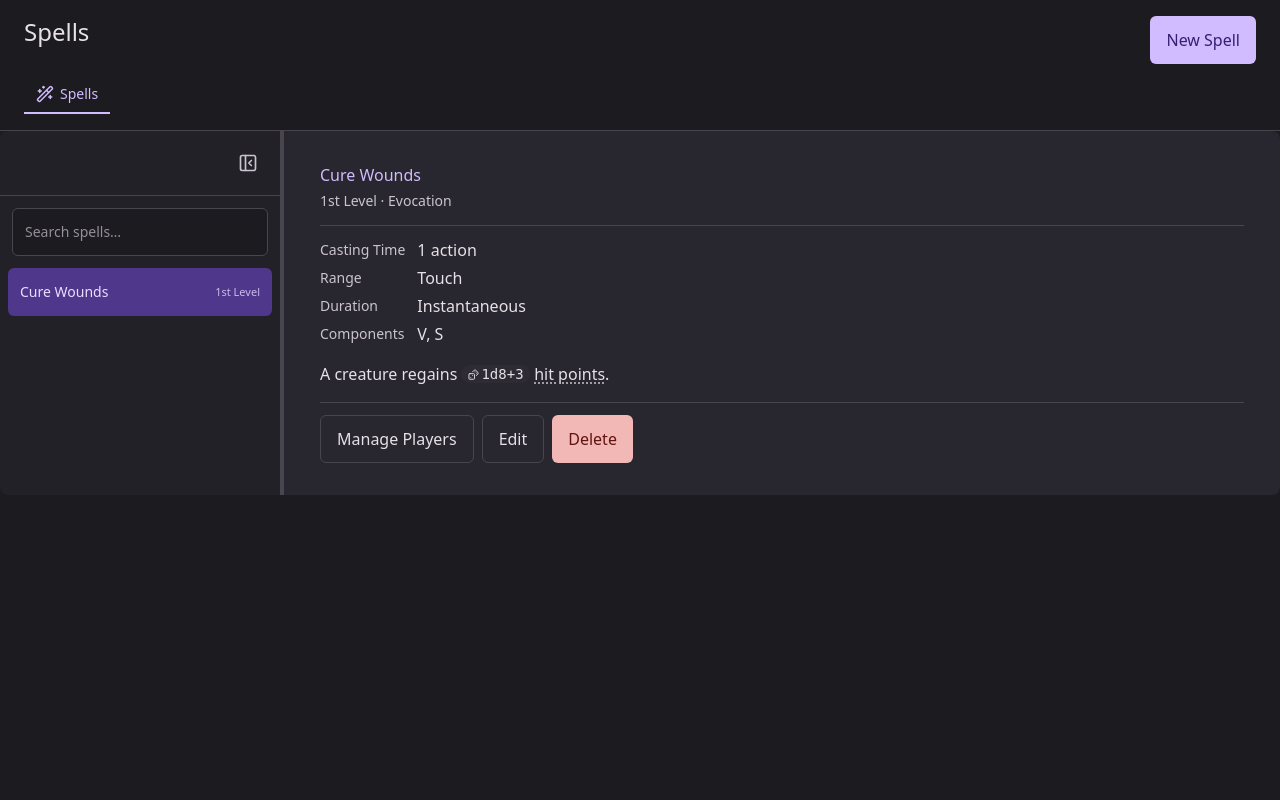
VW0 standard browsers › SpellBrowser: opens editor on New Spell click
This screenshot has width=1280, height=800.
expect the heading "Cure Wounds" is shown: met, box [320,164,421,186]
Click the button "New Spell" at (1203, 40), box [1150,16,1256,64]
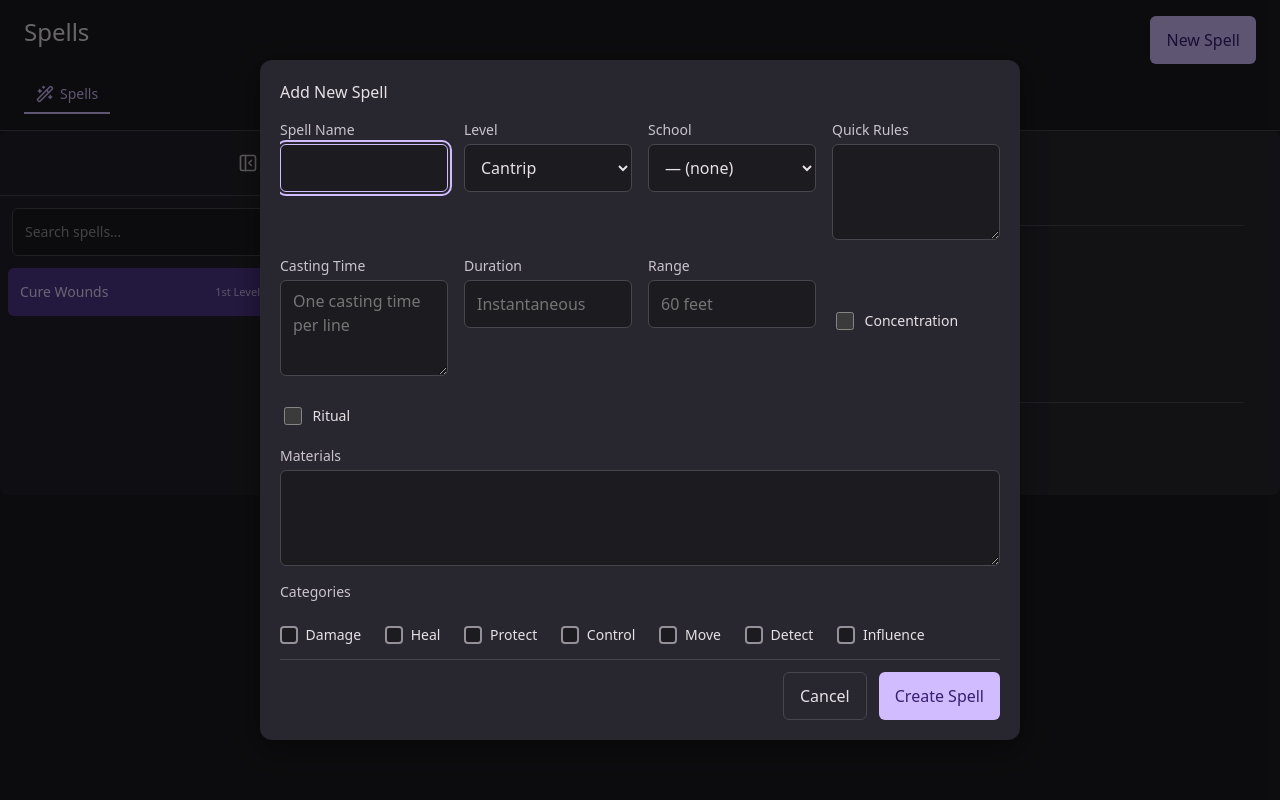
expect the dialog is shown: met, box [260,60,1020,740]
